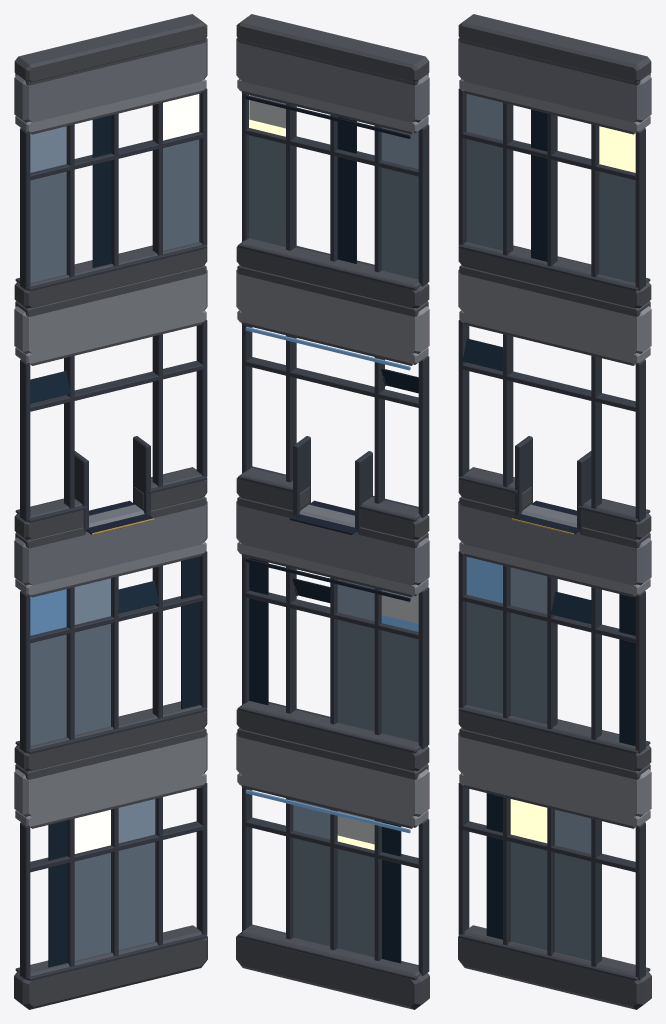
The model's file is spire_facade_v3.glb.
The picture shows the model from 3 angles, left to right: view 1: azimuth 30°, elevation 25°; view 2: azimuth 150°, elevation 25°; view 3: azimuth 330°, elevation 25°; orthographic projection.
Visible parts, largest first — view 1: spire_facade_spandrel1, spire_facade_spandrel0, spire_facade_spandrel2, spire_facade_spandrel3, spire_facade_plinth, spire_facade_parapet, spire_facade_sill3, spire_facade_sill1, spire_facade_pane1_0_lo, spire_facade_pane3_0_lo, spire_facade_pane3_3_lo, spire_facade_pane1_1_lo (+57 smaller); view 2: spire_facade_spandrel1, spire_facade_plinth, spire_facade_spandrel0, spire_facade_spandrel2, spire_facade_spandrel3, spire_facade_parapet, spire_facade_sill1, spire_facade_sill3, spire_facade_pane1_1_lo, spire_facade_pane3_0_lo, spire_facade_pane1_0_lo, spire_facade_pane3_3_lo (+61 smaller); view 3: spire_facade_spandrel1, spire_facade_spandrel0, spire_facade_spandrel2, spire_facade_spandrel3, spire_facade_plinth, spire_facade_parapet, spire_facade_sill3, spire_facade_sill1, spire_facade_pane1_1_lo, spire_facade_pane1_0_lo, spire_facade_pane3_0_lo, spire_facade_pane3_3_lo (+57 smaller).
Part boxes in pixels (left/top/right/bottom): spire_facade_spandrel1: left=14, top=501, right=207, bottom=585; spire_facade_spandrel0: left=14, top=732, right=207, bottom=816; spire_facade_spandrel2: left=14, top=270, right=207, bottom=353; spire_facade_spandrel3: left=14, top=38, right=207, bottom=122; spire_facade_plinth: left=14, top=925, right=207, bottom=1009; spire_facade_parapet: left=14, top=14, right=207, bottom=82; spire_facade_sill3: left=14, top=242, right=207, bottom=308; spire_facade_sill1: left=14, top=702, right=207, bottom=771; spire_facade_pane1_0_lo: left=30, top=634, right=66, bottom=745; spire_facade_pane3_0_lo: left=30, top=171, right=66, bottom=282; spire_facade_pane3_3_lo: left=163, top=139, right=199, bottom=250; spire_facade_pane1_1_lo: left=74, top=623, right=110, bottom=734; spire_facade_spandrel1: left=236, top=501, right=429, bottom=585; spire_facade_plinth: left=236, top=925, right=429, bottom=1009; spire_facade_spandrel0: left=236, top=732, right=429, bottom=816; spire_facade_spandrel2: left=236, top=270, right=429, bottom=353; spire_facade_spandrel3: left=236, top=38, right=429, bottom=122; spire_facade_parapet: left=236, top=14, right=429, bottom=82; spire_facade_sill1: left=236, top=701, right=429, bottom=771; spire_facade_sill3: left=236, top=238, right=429, bottom=308; spire_facade_pane1_1_lo: left=337, top=620, right=374, bottom=731; spire_facade_pane3_0_lo: left=381, top=167, right=418, bottom=279; spire_facade_pane1_0_lo: left=381, top=630, right=418, bottom=742; spire_facade_pane3_3_lo: left=249, top=135, right=285, bottom=246; spire_facade_spandrel1: left=458, top=501, right=651, bottom=585; spire_facade_spandrel0: left=458, top=732, right=651, bottom=816; spire_facade_spandrel2: left=458, top=270, right=651, bottom=353; spire_facade_spandrel3: left=458, top=38, right=651, bottom=122; spire_facade_plinth: left=458, top=925, right=651, bottom=1009; spire_facade_parapet: left=458, top=14, right=651, bottom=82; spire_facade_sill3: left=458, top=242, right=651, bottom=308; spire_facade_sill1: left=458, top=705, right=651, bottom=771; spire_facade_pane1_1_lo: left=510, top=613, right=547, bottom=724; spire_facade_pane1_0_lo: left=466, top=602, right=502, bottom=713; spire_facade_pane3_0_lo: left=466, top=139, right=502, bottom=250; spire_facade_pane3_3_lo: left=599, top=171, right=635, bottom=282.
Bounding box in the file's own units: 8.38 × 40.9 × 1.91.
